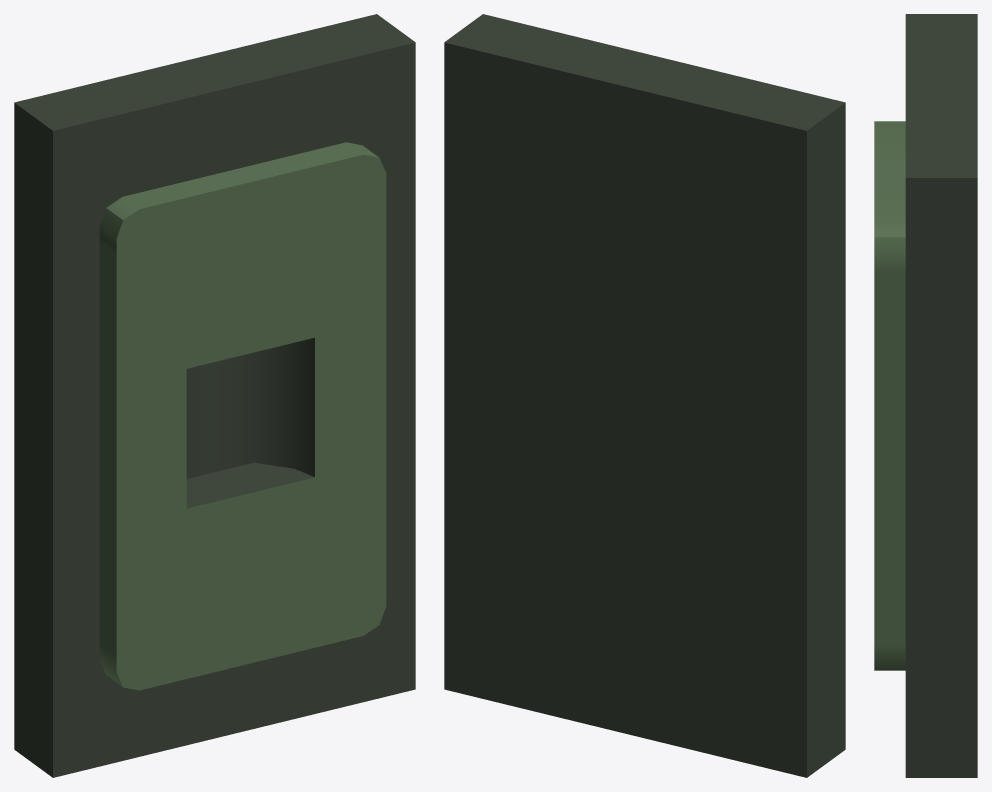
Rendered from power_switch_holder.fbx.
The picture shows the model from 3 angles, left to right: view 1: azimuth 30°, elevation 25°; view 2: azimuth 150°, elevation 25°; view 3: azimuth 270°, elevation 25°; orthographic projection. The views are drawn at different scales.
Parts seen in each view (by area): view 1: Power_Switch_Holder; view 2: Power_Switch_Holder; view 3: Power_Switch_Holder.
Part boxes in pixels (box(x1,y1,x2,y2)): Power_Switch_Holder: box(14, 14, 415, 777); Power_Switch_Holder: box(444, 14, 845, 777); Power_Switch_Holder: box(874, 14, 977, 777).
Bounding box in the file's own units: 1 × 1.7 × 0.2666.
